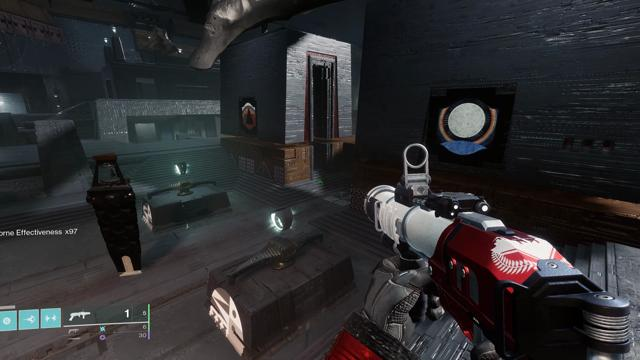pyramid: (241, 103, 257, 130)
traveler: (435, 99, 499, 156)
